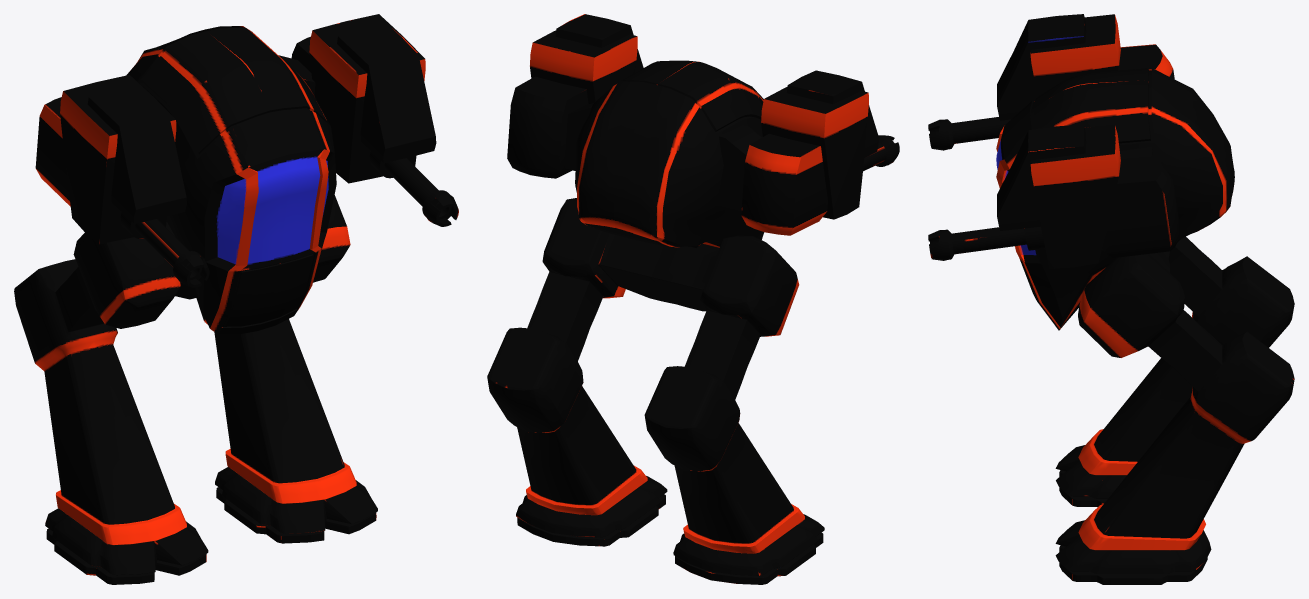
The model's file is Robot.glb.
The picture shows the model from 3 angles, left to right: view 1: azimuth 30°, elevation 25°; view 2: azimuth 150°, elevation 25°; view 3: azimuth 270°, elevation 25°; orthographic projection. The views are drawn at different scales.
Visible parts, largest first — view 1: Cockpit; view 2: Cockpit; view 3: Cockpit.
Part boxes in pixels (<box>): Cockpit: <box>14,14,458,584</box>; Cockpit: <box>487,14,899,584</box>; Cockpit: <box>928,14,1294,584</box>.
Size of the model in its own units: 2.94 by 4.3 by 3.21.
Materials: 1 (1 with a texture image).
